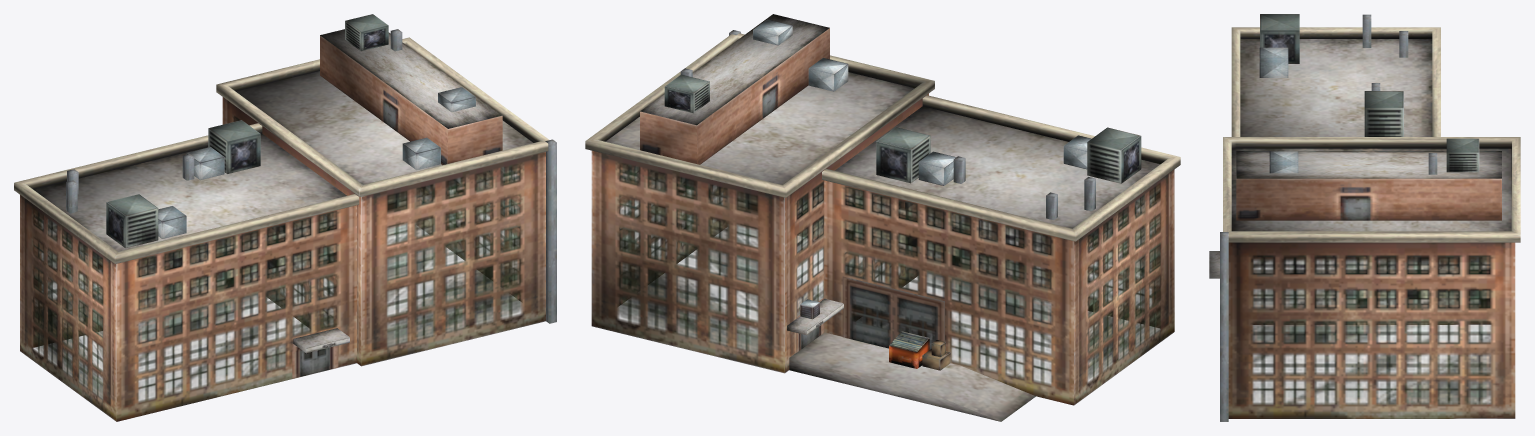
The model's file is Civilian - Civilian Building - Industrial Building 02 - Night - CBIndWhs02_n.glb.
3 renders of one model, left to right at view 1: azimuth 30°, elevation 25°; view 2: azimuth 150°, elevation 25°; view 3: azimuth 270°, elevation 25°, orthographic. The views are drawn at different scales.
Parts seen in each view (by area): view 1: CBINDWHS02_N; view 2: CBINDWHS02_N; view 3: CBINDWHS02_N.
Boxes of the visible parts, x1,y1,x2,y2 form: CBINDWHS02_N: [14, 14, 556, 421]; CBINDWHS02_N: [585, 14, 1180, 421]; CBINDWHS02_N: [1209, 14, 1520, 421].
Size of the model in its own units: 120 by 60.57 by 71.28.
Materials: 1 (1 with a texture image).
